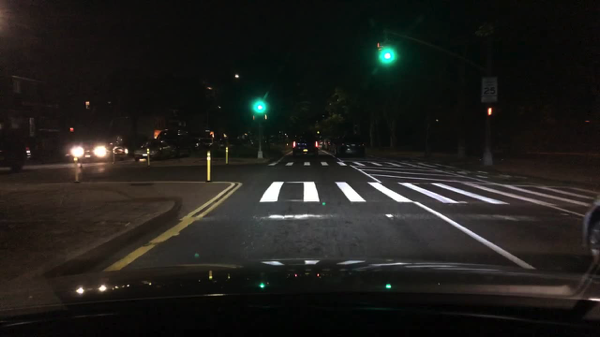car: (0, 129, 27, 172), (157, 128, 192, 157), (73, 135, 107, 162), (134, 136, 158, 162), (292, 134, 318, 156), (339, 135, 366, 156), (265, 135, 278, 143), (248, 138, 258, 147), (203, 140, 214, 147), (113, 147, 125, 153), (273, 134, 286, 139), (228, 140, 235, 148), (219, 140, 227, 147), (194, 142, 200, 150)
person: (322, 142, 324, 150)
traffic light: (384, 44, 390, 62), (257, 99, 262, 113), (487, 110, 491, 114)
traffic sign: (482, 76, 497, 101)
